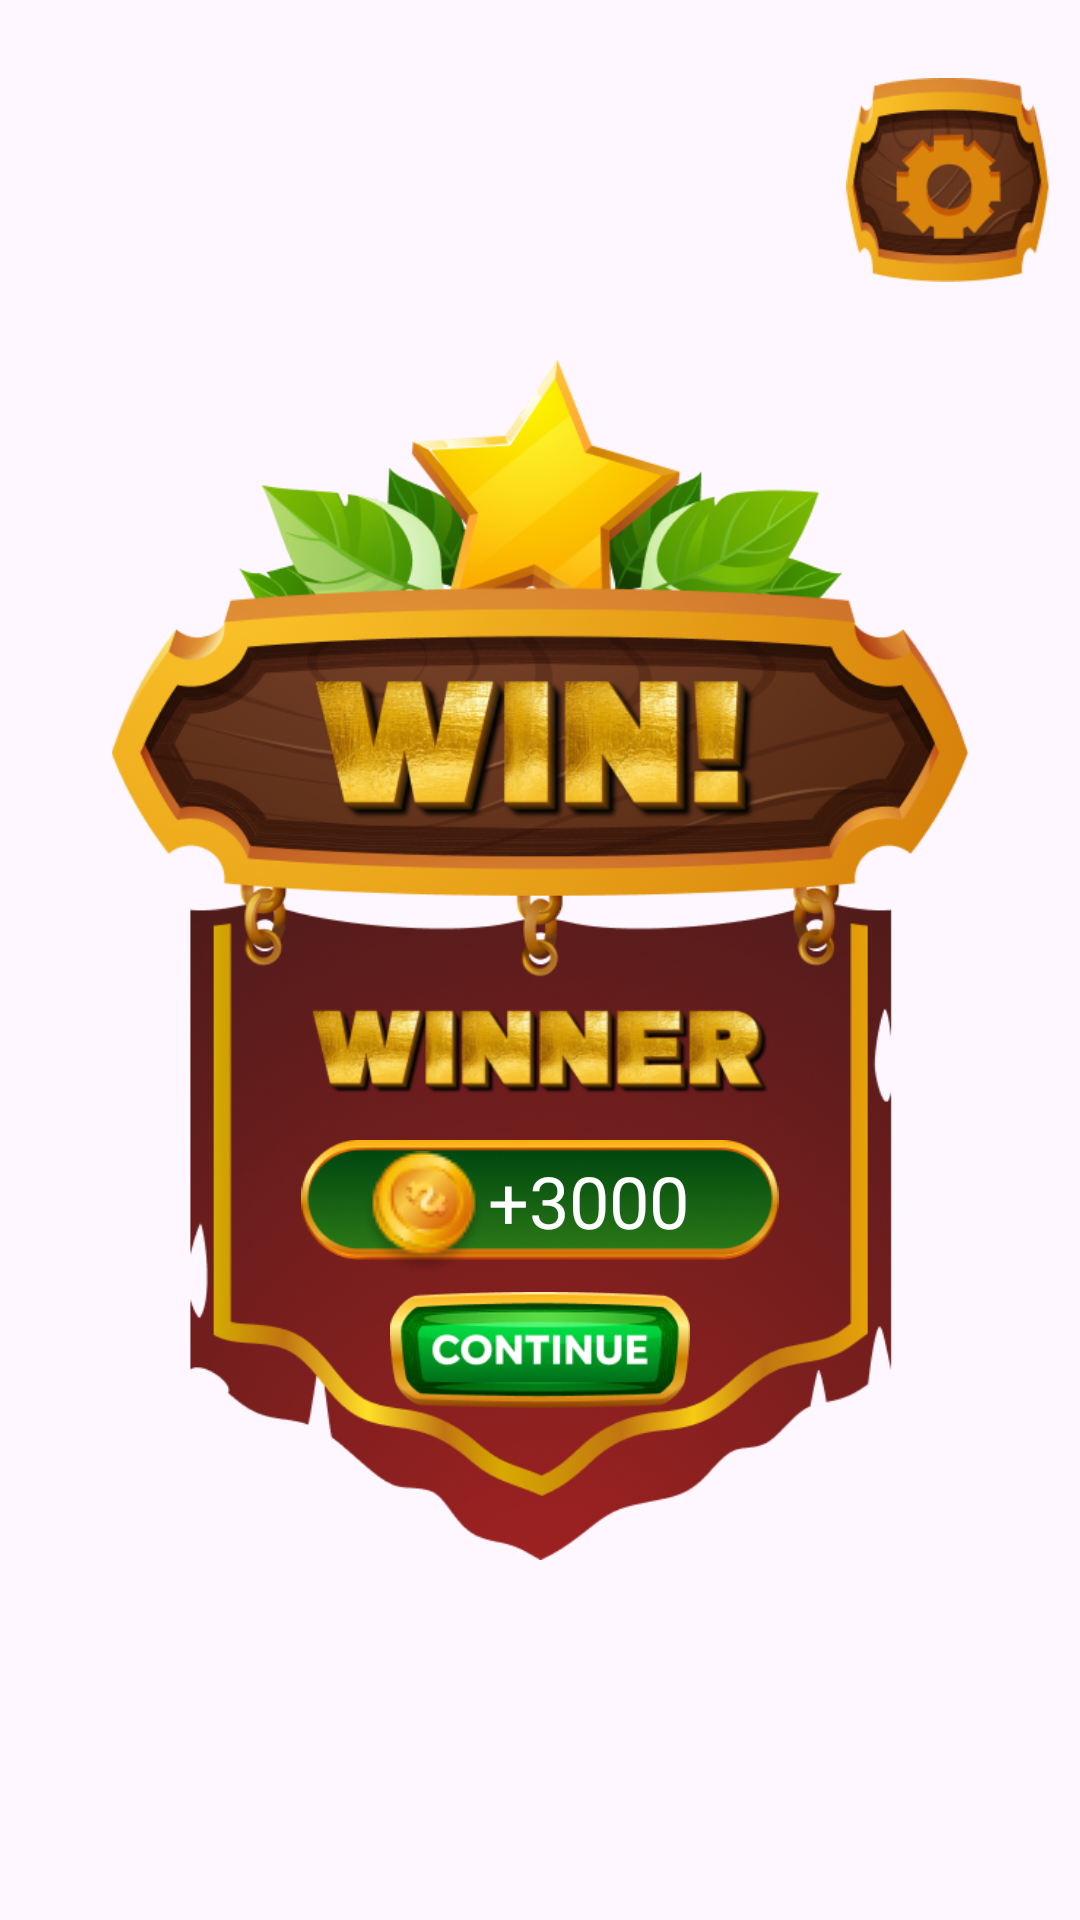

Screen size 1080*1920. Icon name, then its center in pixels as (x=x, y=y):
points: (x=424, y=1215)
settings: (x=947, y=180)
